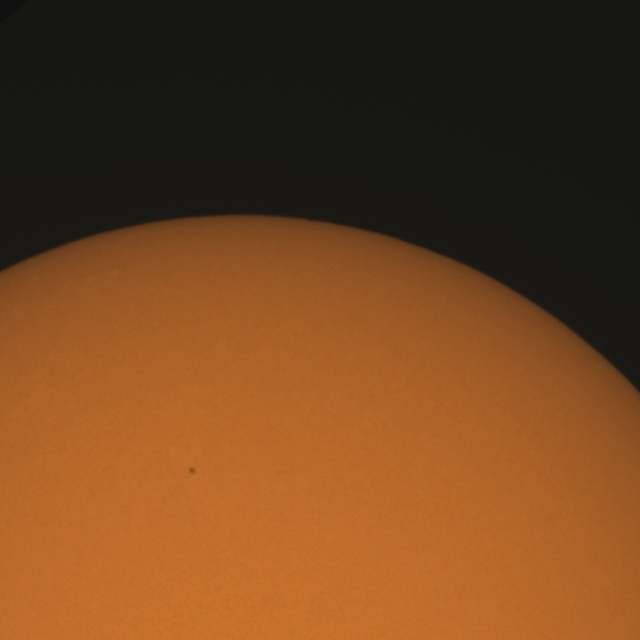sunspot: (187, 466, 197, 477)
